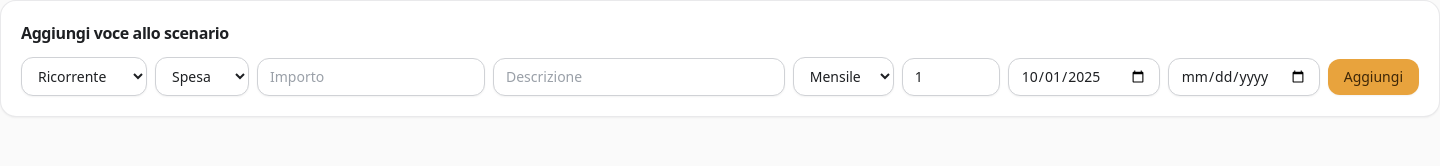
ScenarioItemForm › rejects a non-positive amount
Type "0" into the number field labelled "Importo" at (371, 76), box [257,58,485,96]
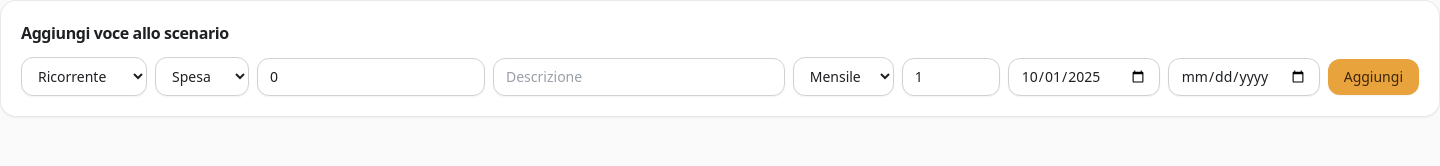
Click the button "Aggiungi" at (1373, 76), box [1328,58,1419,94]
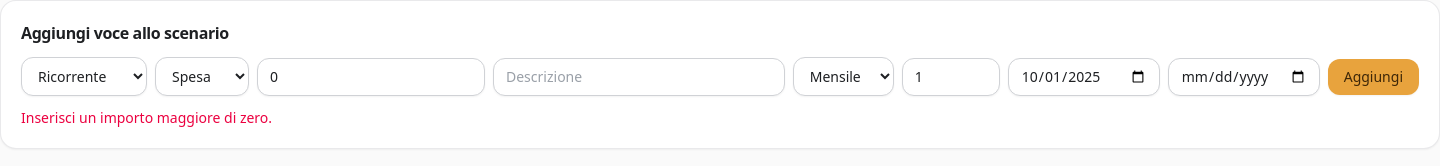
Expected: the text "Inserisci un importo maggiore di zero." is shown, [21,108,272,127]
